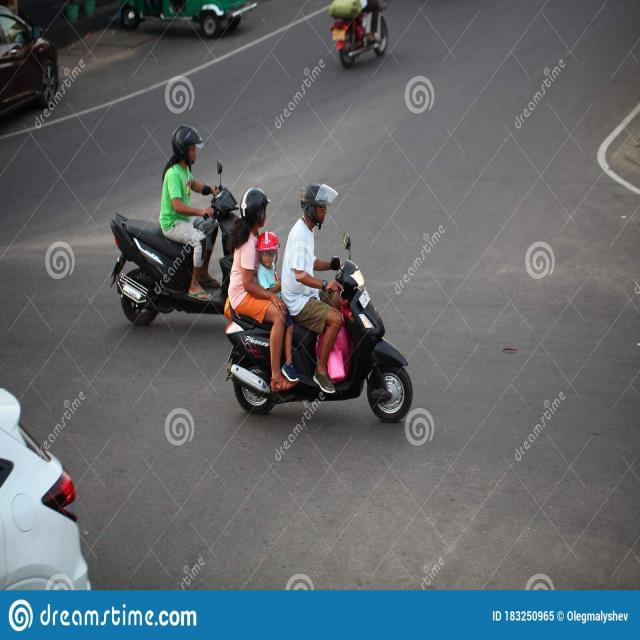With Helmet: (219, 172, 418, 436), (106, 101, 252, 333)
